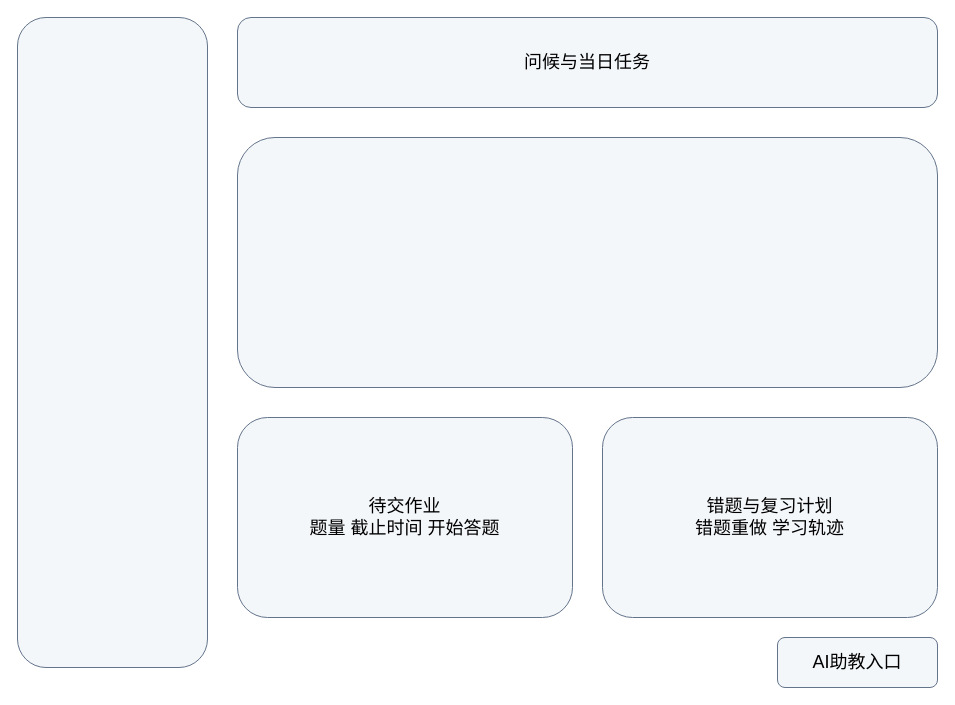
Some shapes in this 955 by 705 pixel diagram are drawn without their labels. The shapes that lost their labels are listed below. From the top down, each one's box as (x1, y1, x2, y2) in pixels, then its label:
(236, 136, 938, 388): 知识方格 五大模块与30个知识主题 状态与参考掌握度
(16, 16, 208, 668): 学习中心导航
